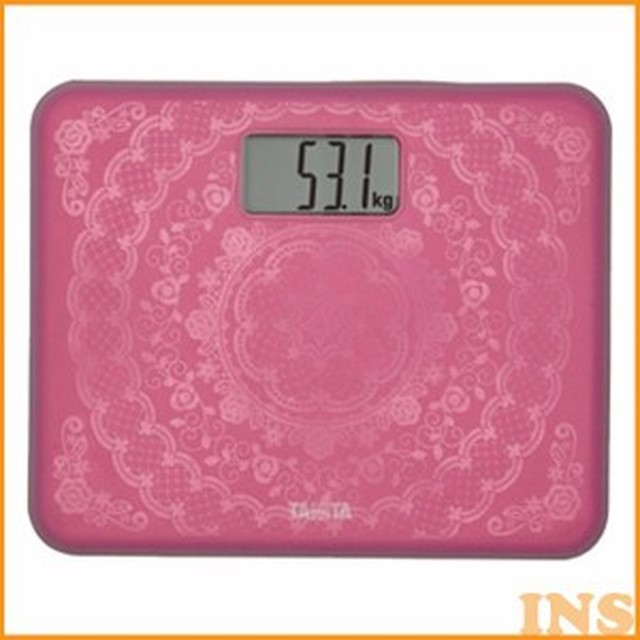LCD: (241, 132, 403, 216)
